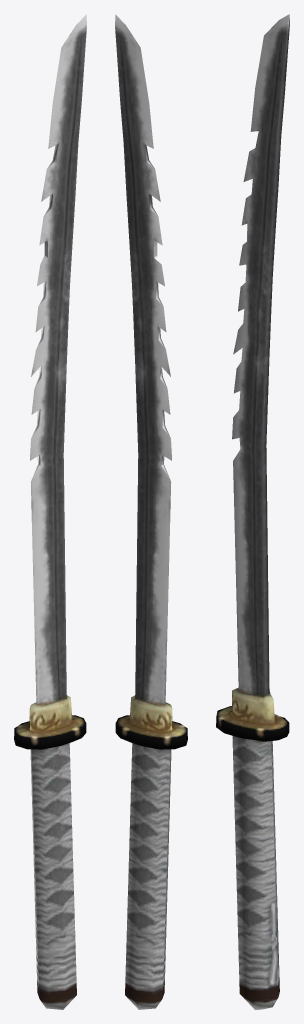
The model's file is Katana.fbx.
3 views of the same model, side by side, from view 1: azimuth 30°, elevation 25°; view 2: azimuth 150°, elevation 25°; view 3: azimuth 330°, elevation 25° (orthographic).
Visible parts, largest first — view 1: Katana; view 2: Katana; view 3: Katana.
Boxes of the visible parts, left/top/right/bottom form: Katana: left=14, top=14, right=86, bottom=1009; Katana: left=115, top=14, right=187, bottom=1009; Katana: left=216, top=14, right=289, bottom=1009.
Size of the model in its own units: 10.27 by 136 by 5.97.
